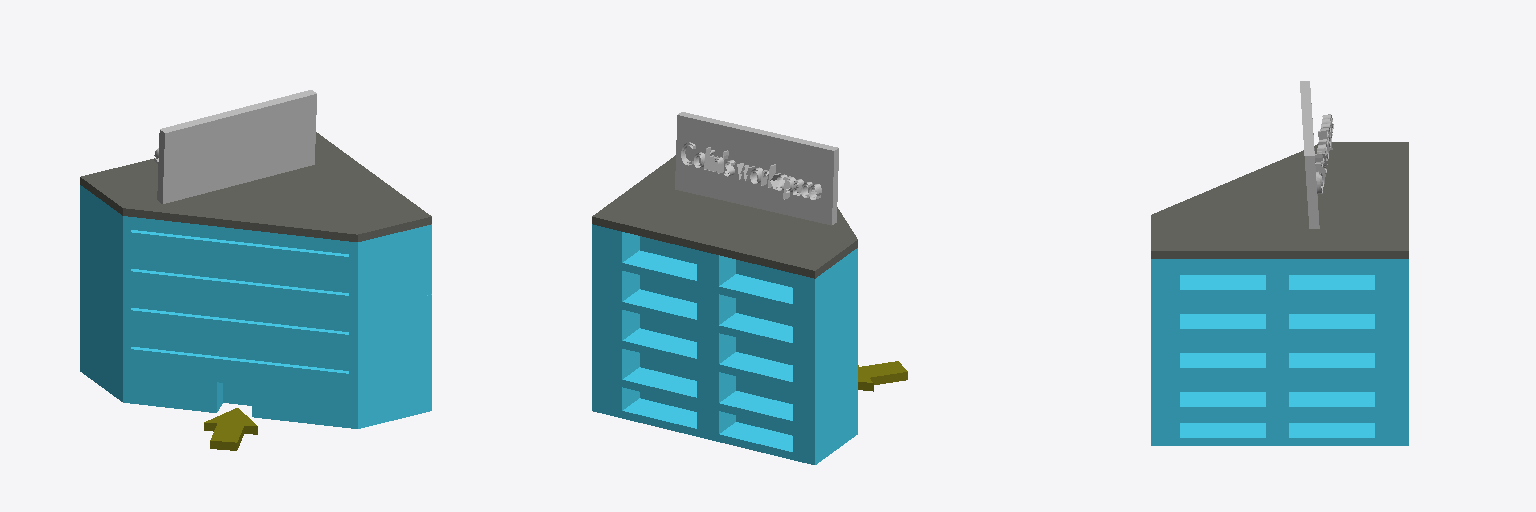
3 renders of one model, left to right at view 1: azimuth 30°, elevation 25°; view 2: azimuth 150°, elevation 25°; view 3: azimuth 270°, elevation 25°, orthographic.
Visible parts, largest first — view 1: lll4.001, Cube.005_Cube.006; view 2: lll4.001, Cube.005_Cube.006, text.005_Text.005; view 3: lll4.001, Cube.005_Cube.006, text.005_Text.005.
Boxes of the visible parts, x1,y1,x2,y2 form: lll4.001: [80, 132, 431, 450]; Cube.005_Cube.006: [157, 90, 316, 203]; lll4.001: [592, 155, 907, 464]; Cube.005_Cube.006: [675, 112, 838, 225]; text.005_Text.005: [681, 142, 821, 199]; lll4.001: [1151, 142, 1408, 445]; Cube.005_Cube.006: [1300, 81, 1319, 228]; text.005_Text.005: [1315, 114, 1333, 193].
Size of the model in its own units: 30 by 34.93 by 30.01.